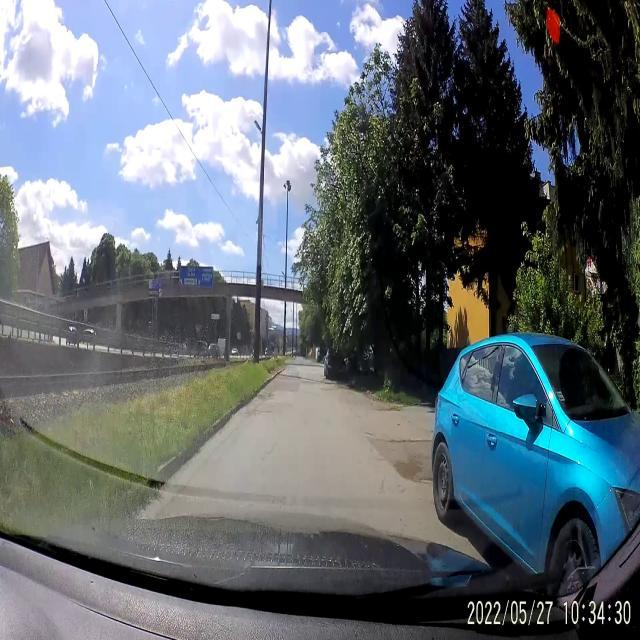Pothole: (270, 491, 288, 507), (364, 428, 376, 444)
